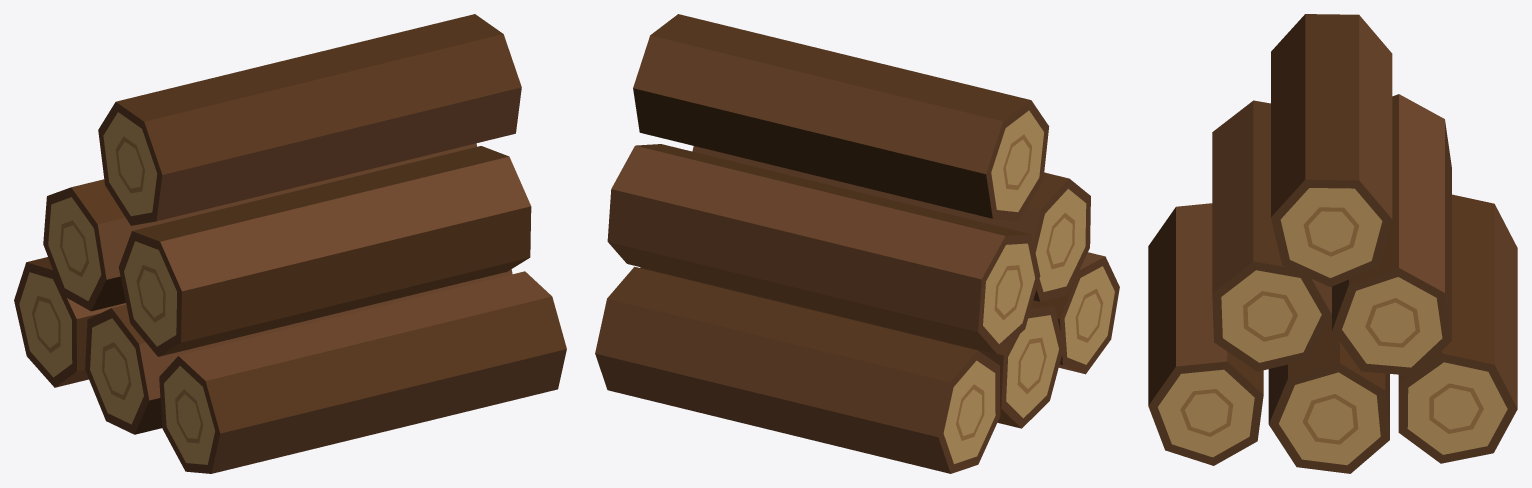
File: Prop_Firewood.fbx
3 renders of one model, left to right at view 1: azimuth 30°, elevation 25°; view 2: azimuth 150°, elevation 25°; view 3: azimuth 270°, elevation 25°, orthographic. The views are drawn at different scales.
Visible parts, largest first — view 1: Prop_Firewood; view 2: Prop_Firewood; view 3: Prop_Firewood.
Boxes of the visible parts, x1,y1,x2,y2 form: Prop_Firewood: (14, 14, 566, 473); Prop_Firewood: (595, 14, 1119, 473); Prop_Firewood: (1148, 14, 1517, 473).
Bounding box in the file's own units: 0.7077 × 0.5551 × 0.626.
